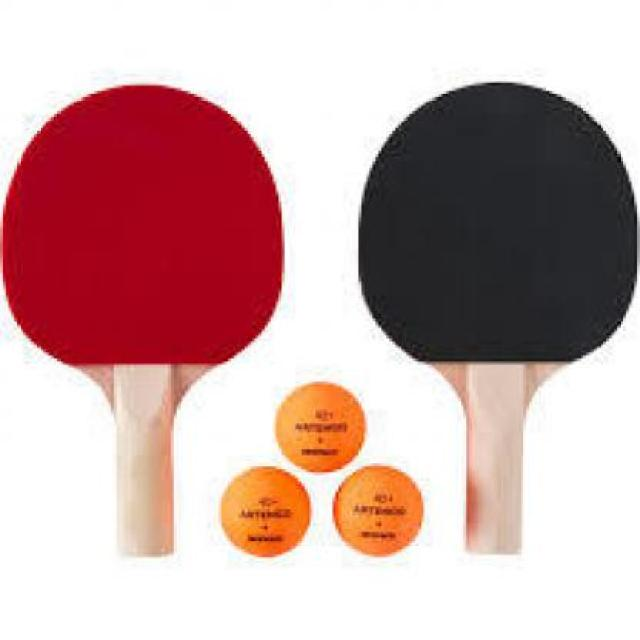table_tennis_racket: (351, 76, 635, 390), (0, 85, 291, 387)
